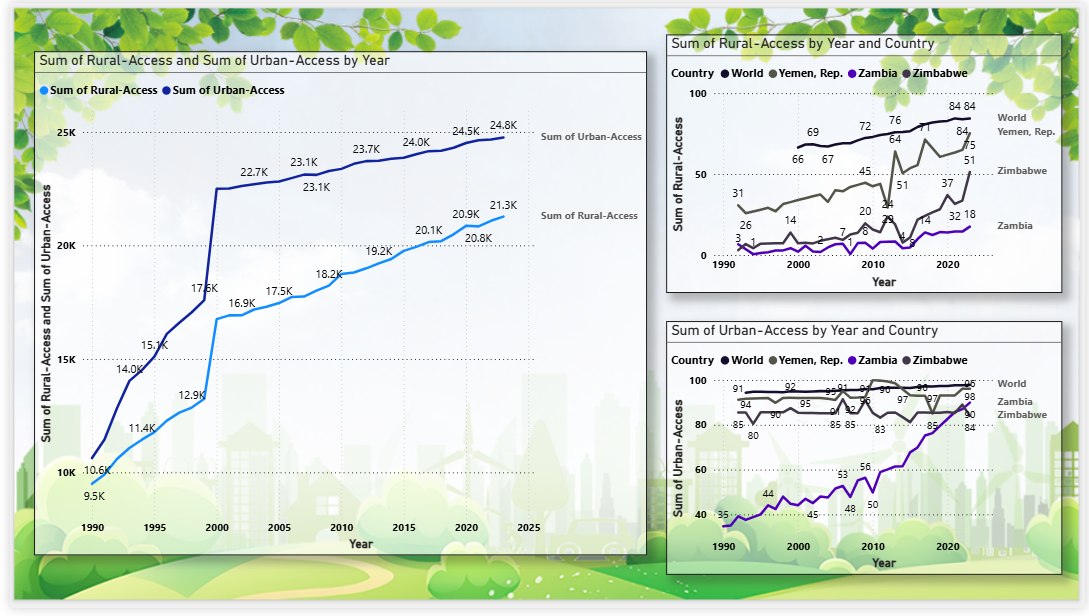

Layout of this report page (visuals, bound fields, positions):
{"tool":"powerbi","page":{"name":"Page 2","canvas":[1280,720],"ordinal":1},"visuals":[{"type":"lineChart","fields":{"Y":["Sum(Ftable.Rural-Access)","Sum(Ftable.Urban-Access)"],"Category":["Ftable.Year"]},"box":[28.6,57.1,730,600],"z":0},{"type":"lineChart","fields":{"Category":["Ftable.Year"],"Series":["Ftable.Country"],"Y":["Sum(Ftable.Rural-Access)"]},"box":[781.4,37.1,471.4,307.1],"z":1000},{"type":"lineChart","fields":{"Category":["Ftable.Year"],"Series":["Ftable.Country"],"Y":["Sum(Ftable.Urban-Access)"]},"box":[781.4,378.6,471.4,301.4],"z":2000}]}

Visuals, with their boxes in screenshot pixels (x1, y1, x2, y2), scaled from the page's 1280x720 canvas onto the 1089x616 screenshot:
lineChart - Sum(Ftable.Rural-Access) x Sum(Ftable.Urban-Access): box(24, 49, 645, 562)
lineChart - Ftable.Year x Ftable.Country: box(665, 32, 1066, 294)
lineChart - Ftable.Year x Ftable.Country: box(665, 324, 1066, 582)
